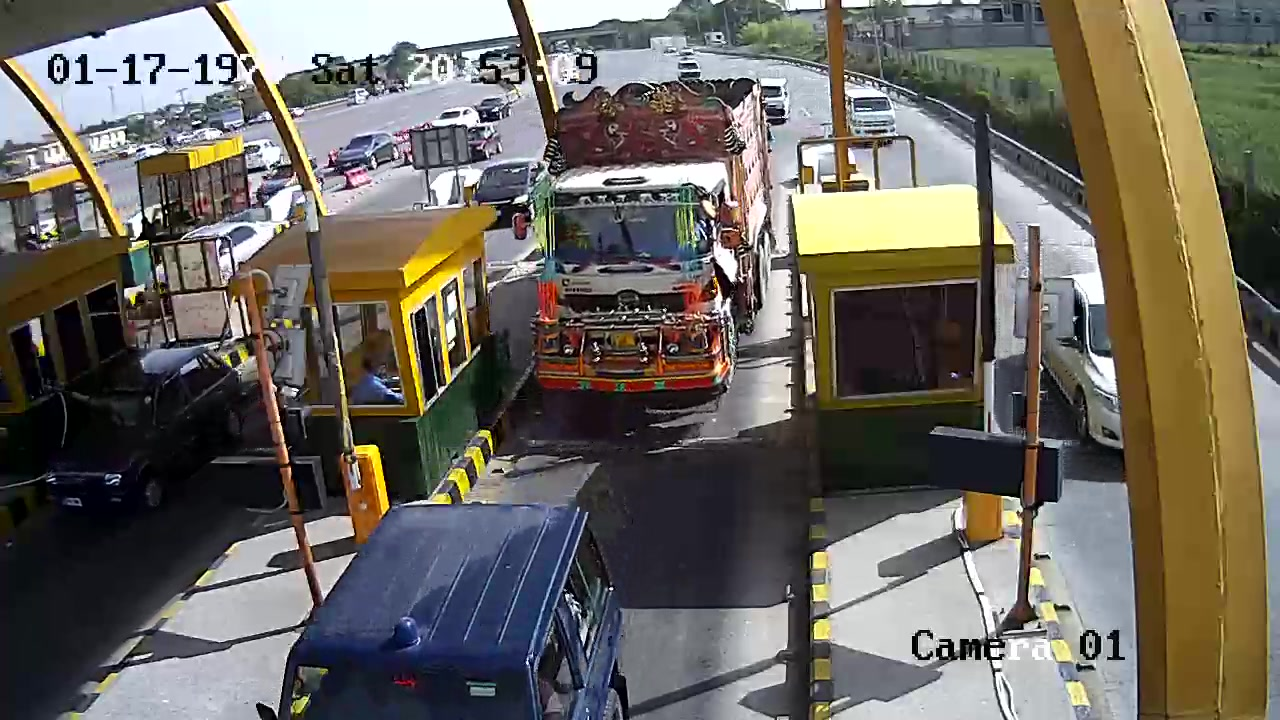F5: (518, 73, 766, 413)
